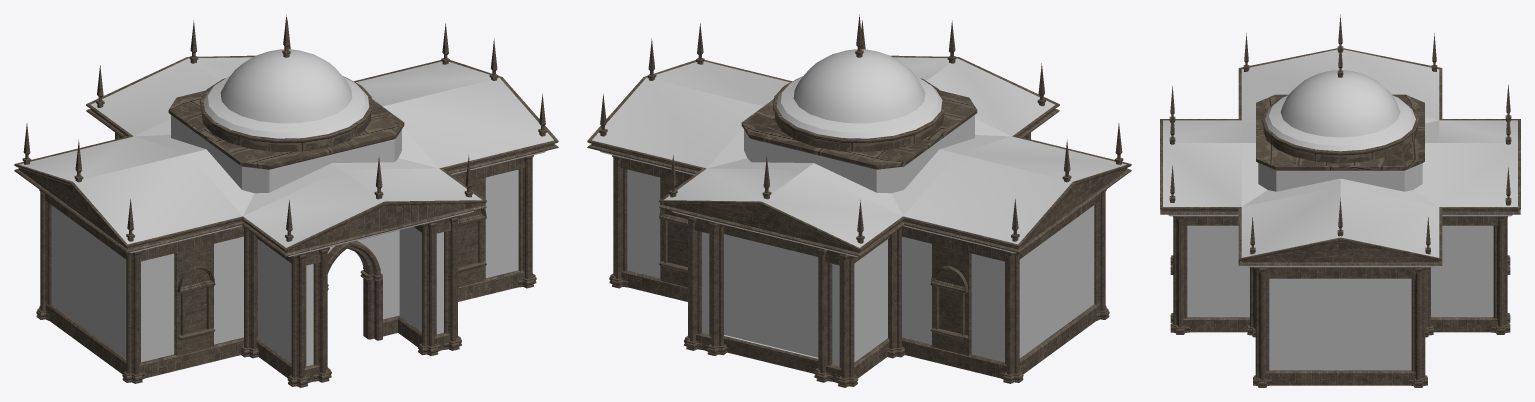
Rendered from Mausoleum_Hat.fbx.
3 views of the same model, side by side, from view 1: azimuth 30°, elevation 25°; view 2: azimuth 150°, elevation 25°; view 3: azimuth 270°, elevation 25° (orthographic). The views are drawn at different scales.
Visible parts, largest first — view 1: mausoleum_Hat; view 2: mausoleum_Hat; view 3: mausoleum_Hat.
Part boxes in pixels (x1=…): mausoleum_Hat: x1=14, y1=14, x2=558, y2=387; mausoleum_Hat: x1=587, y1=14, x2=1131, y2=387; mausoleum_Hat: x1=1160, y1=14, x2=1520, y2=387.
Bounding box in the file's own units: 26.71 × 16.89 × 21.3.
